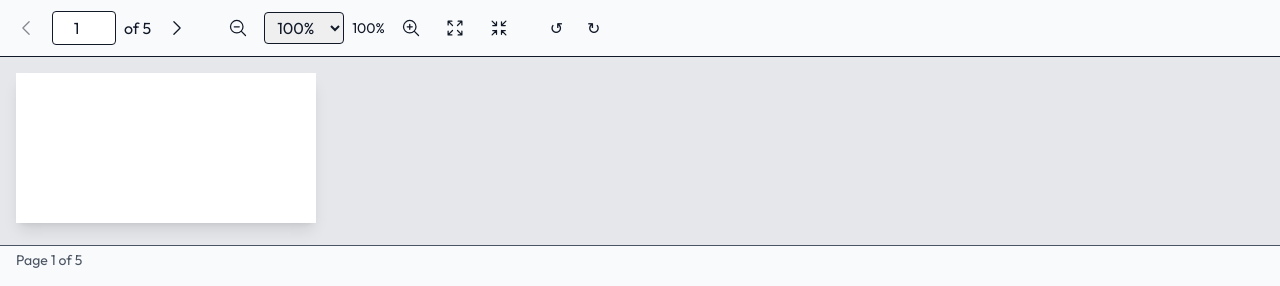
Test: PDFViewer › Navigation › should navigate to next page
This screenshot has width=1280, height=286.
Check: the text "Page 1 of 5" is shown, box [16,251,82,269]
Click the button named "next page". click: (177, 28)
box: [159,10,195,46]
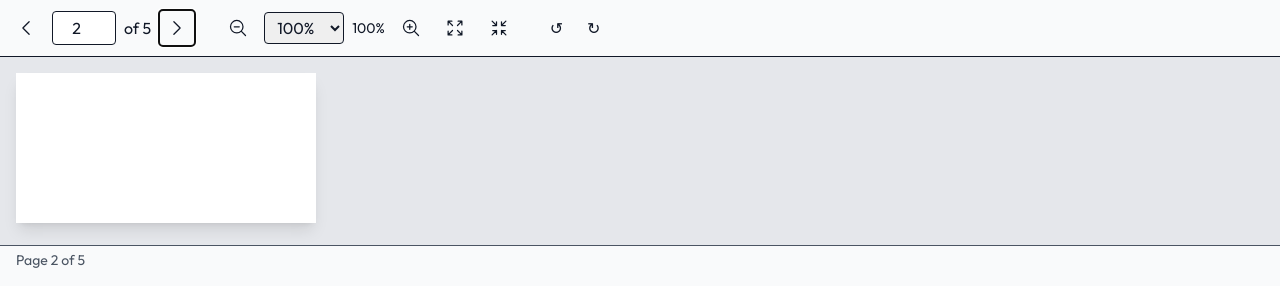
Check: the text "Page 2 of 5" is shown, box [16,251,85,269]
